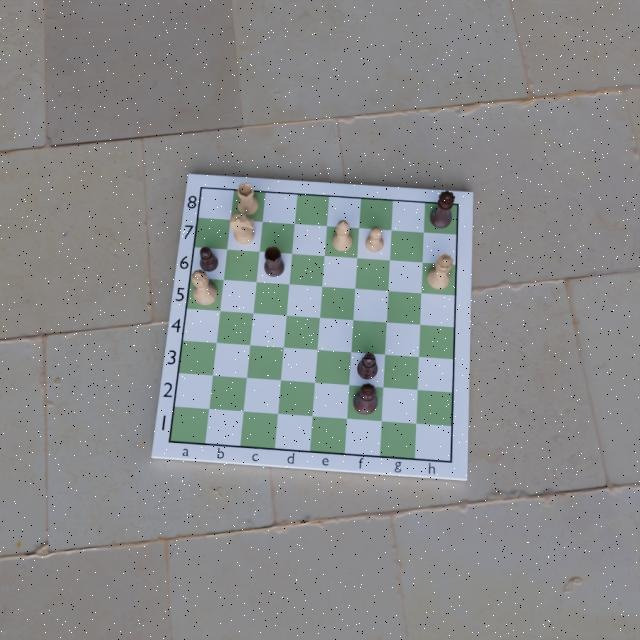black-bishop: (356, 349, 379, 380)
black-king: (353, 383, 379, 417)
black-pawn: (199, 246, 220, 274)
black-queen: (428, 189, 456, 229)
black-rook: (263, 244, 286, 278)
white-bishop: (330, 218, 354, 254)
white-king: (192, 269, 220, 307)
white-knight: (228, 214, 258, 245)
white-pawn: (365, 226, 386, 254)
white-queen: (426, 253, 454, 291)
white-rook: (236, 182, 260, 216)
